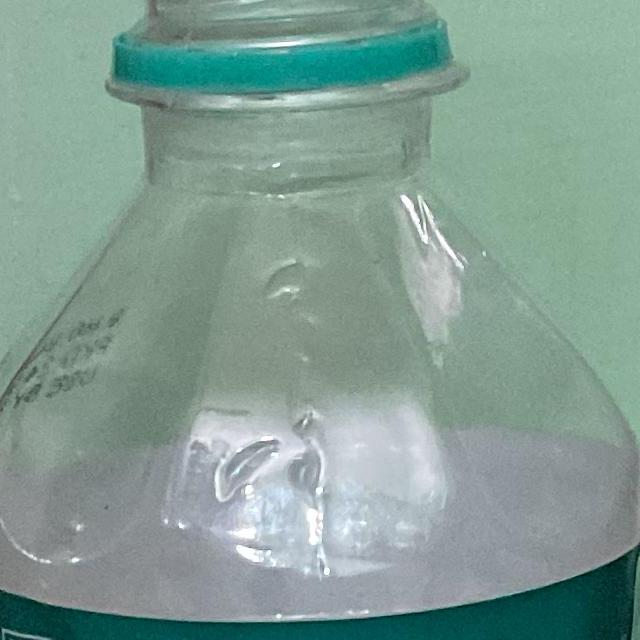open-cap: (122, 0, 471, 124)
